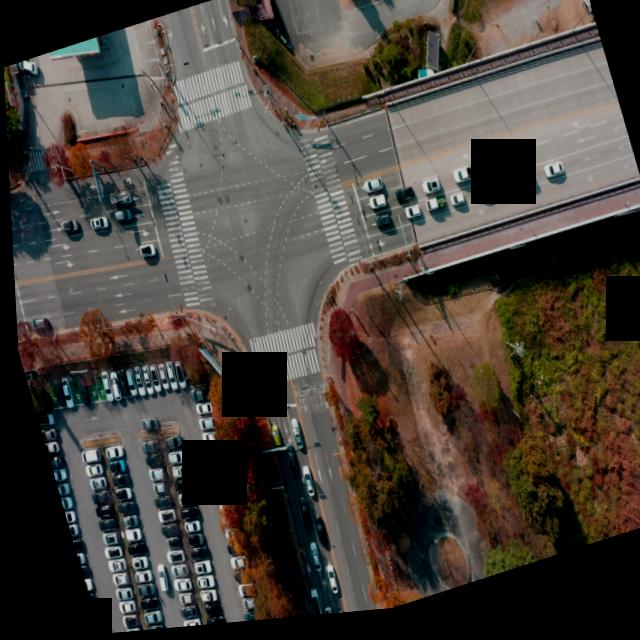car: (146, 564, 164, 596), (74, 444, 96, 464)
small_truck: (420, 199, 446, 222), (104, 187, 128, 209)
